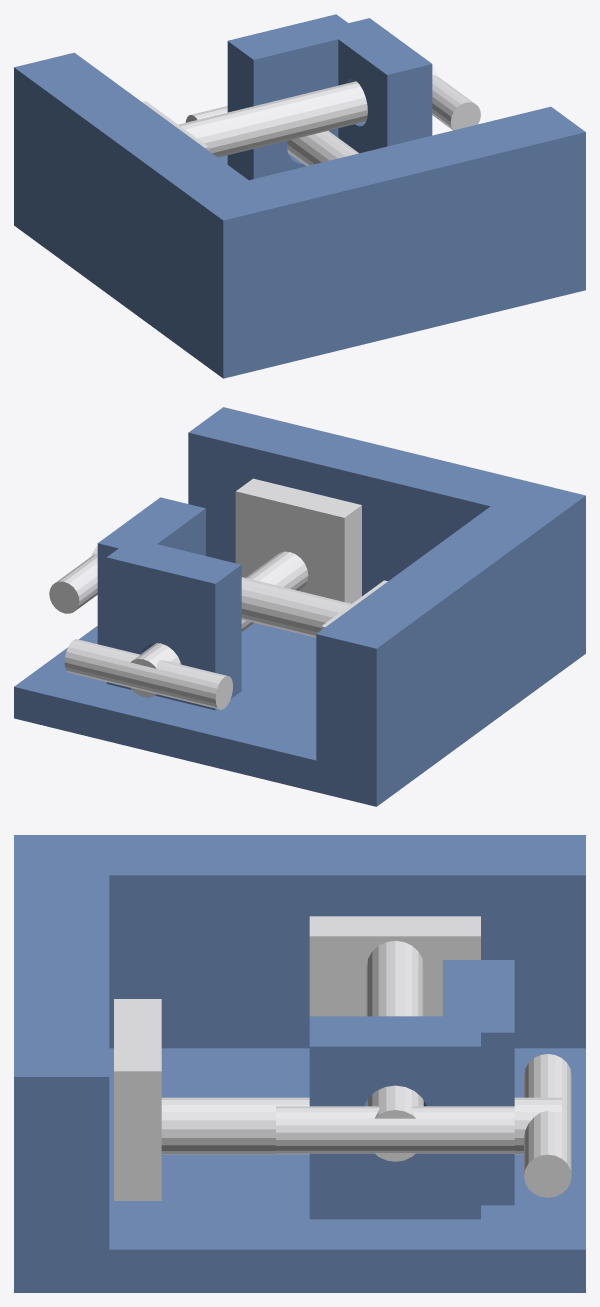
The model's file is clamp-angle.glb.
The picture shows the model from 3 angles, top to bottom: view 1: azimuth 30°, elevation 25°; view 2: azimuth 150°, elevation 25°; view 3: azimuth 270°, elevation 25°; orthographic projection. The views are drawn at different scales.
Parts seen in each view (by area): view 1: body, pad-b, pad-a; view 2: body, pad-a, pad-b; view 3: body, pad-b, pad-a.
Boxes of the visible parts, x1,y1,x2,y2 form: body: [14, 14, 585, 378]; pad-b: [142, 66, 480, 157]; pad-a: [185, 106, 358, 165]; body: [14, 407, 585, 806]; pad-a: [64, 478, 361, 709]; pad-b: [49, 546, 387, 637]; body: [14, 835, 585, 1292]; pad-b: [276, 916, 514, 1161]; pad-a: [114, 999, 571, 1200].
Size of what is drawn, in the model's own units: 0.12 by 0.05 by 0.12.
